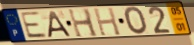2: (148, 4, 173, 35)
A: (46, 9, 72, 38)
E: (19, 10, 49, 40)
H: (66, 8, 100, 39), (92, 7, 123, 37)
O: (123, 5, 149, 35)
